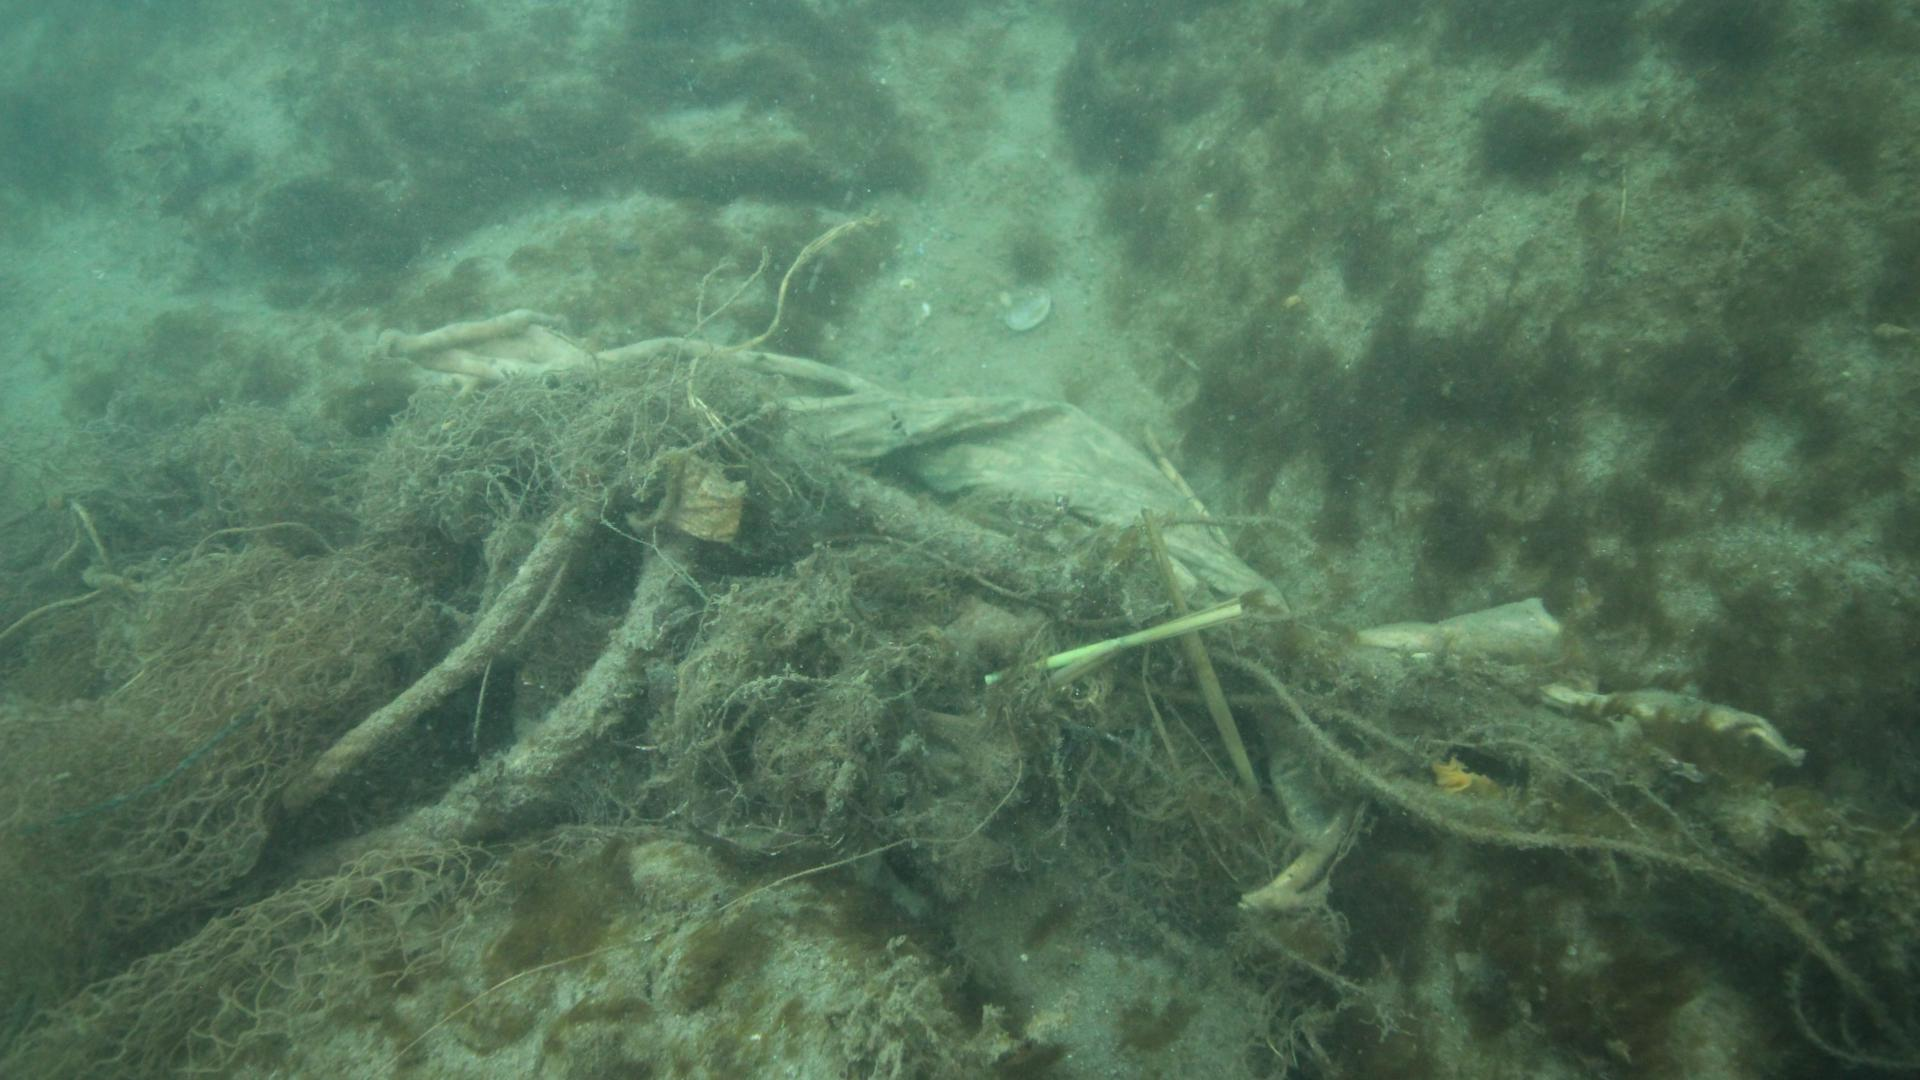bundle of ropes: (278, 498, 691, 884)
